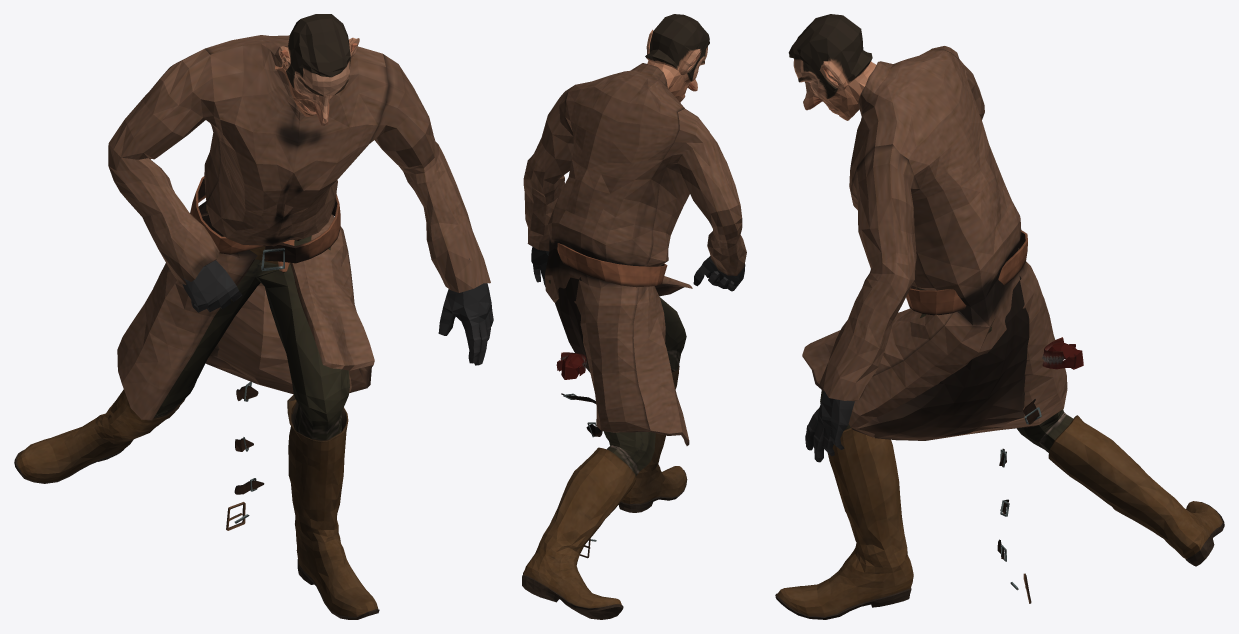
The model's file is sniper-inj-walk_joined_000010.obj.
3 views of the same model, side by side, from view 1: azimuth 30°, elevation 25°; view 2: azimuth 150°, elevation 25°; view 3: azimuth 270°, elevation 25° (orthographic). The views are drawn at different scales.
Parts seen in each view (by area): view 1: Shoes; view 2: Shoes; view 3: Shoes.
Part boxes in pixels (x1,y1,x2,y2): Shoes: (14,14,493,619); Shoes: (522,14,746,619); Shoes: (775,14,1224,619).
Bounding box in the file's own units: 1.23 × 2.22 × 1.55.
